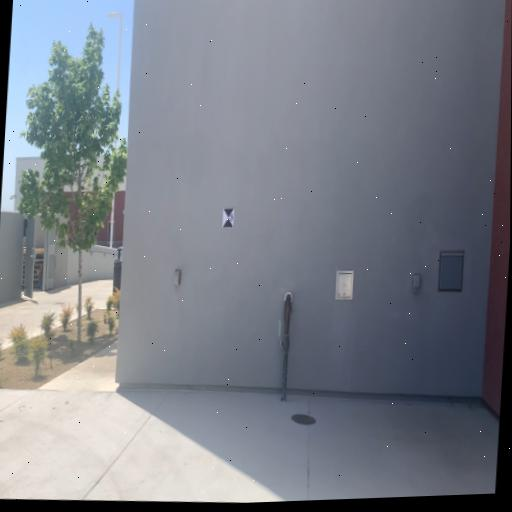target5: (223, 208, 234, 228)
